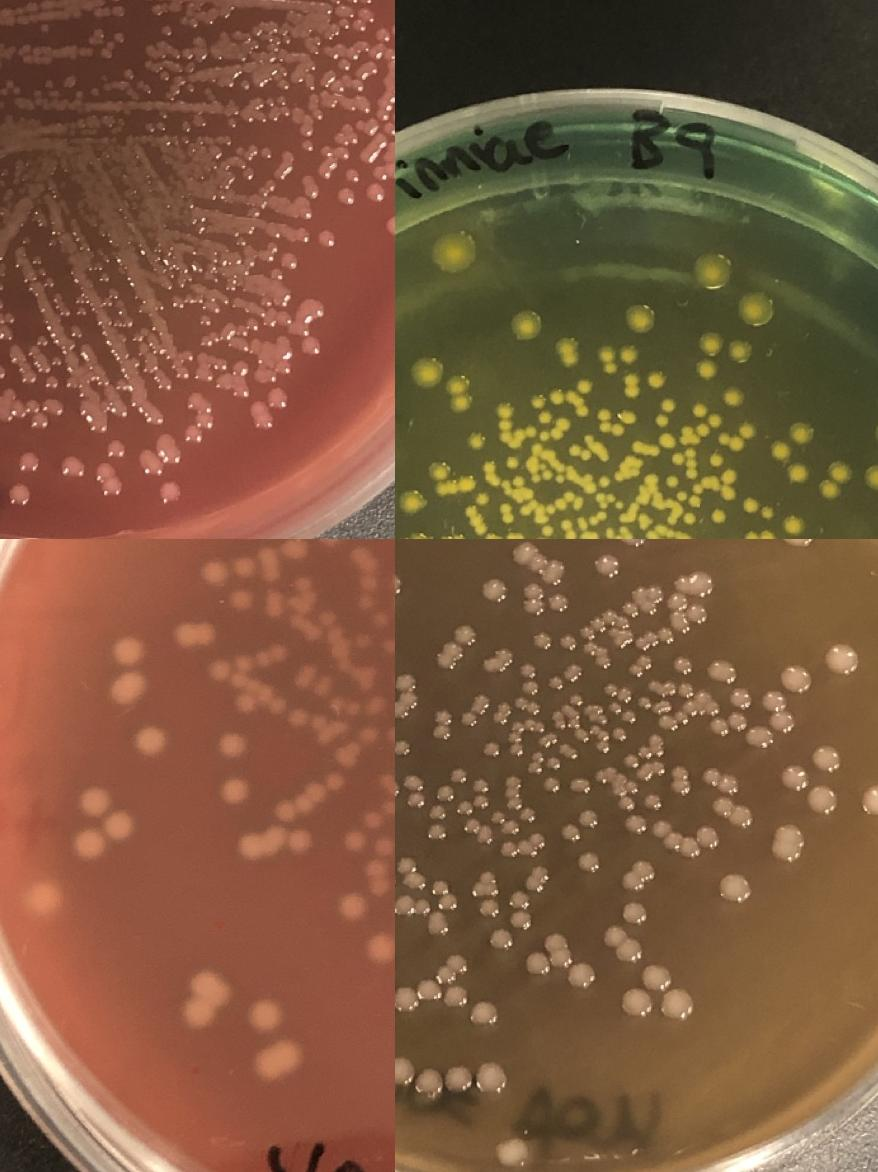pddamselae: (209, 643, 292, 716), (395, 953, 469, 1014), (709, 686, 771, 750), (274, 771, 346, 823), (700, 764, 756, 830), (396, 878, 459, 932), (428, 765, 467, 844), (80, 784, 132, 840), (667, 573, 712, 634), (653, 817, 720, 857), (413, 1063, 472, 1098), (362, 838, 395, 898), (290, 660, 336, 700), (436, 626, 475, 672), (579, 609, 617, 655), (761, 686, 797, 734), (107, 669, 152, 706), (603, 923, 643, 964), (266, 694, 310, 731), (507, 718, 547, 758), (244, 995, 284, 1033), (470, 871, 499, 918), (561, 808, 599, 843), (360, 798, 395, 833), (771, 826, 804, 863), (302, 609, 338, 642), (396, 854, 426, 892), (218, 774, 252, 806), (566, 960, 598, 991), (806, 783, 838, 814), (623, 857, 653, 890), (509, 889, 531, 933), (467, 998, 498, 1028), (718, 872, 748, 903), (782, 662, 812, 693), (498, 1136, 528, 1166), (620, 988, 650, 1018), (642, 962, 672, 992), (592, 552, 622, 582), (662, 989, 692, 1018), (811, 741, 841, 770), (826, 645, 856, 674), (359, 724, 395, 748), (278, 539, 310, 566), (475, 1064, 505, 1092), (404, 773, 426, 811), (218, 730, 248, 757), (367, 933, 395, 961), (76, 830, 104, 858), (137, 726, 165, 754), (113, 638, 141, 666), (200, 558, 228, 586), (228, 588, 256, 615), (432, 707, 452, 743), (781, 764, 808, 790), (706, 658, 732, 685), (504, 774, 522, 812), (525, 950, 551, 976), (487, 926, 513, 952), (622, 900, 648, 926), (481, 578, 507, 604), (540, 558, 566, 584), (512, 540, 538, 566), (470, 775, 490, 808), (395, 735, 412, 772), (362, 696, 386, 721), (340, 895, 364, 919), (312, 727, 336, 751), (289, 828, 312, 853), (671, 766, 690, 796), (603, 685, 631, 704), (342, 830, 366, 852), (526, 866, 548, 890), (526, 583, 542, 616), (395, 1055, 413, 1084), (649, 680, 677, 698), (862, 785, 878, 816), (528, 748, 546, 775), (357, 591, 379, 613), (292, 574, 314, 596), (492, 701, 512, 725), (514, 697, 538, 716), (577, 853, 597, 875), (625, 812, 645, 834), (395, 672, 415, 694), (571, 776, 590, 798), (493, 648, 512, 666), (673, 656, 691, 674), (533, 632, 551, 650), (550, 594, 568, 612), (471, 695, 490, 712), (388, 570, 395, 614), (635, 654, 653, 671), (354, 634, 372, 649), (618, 539, 648, 548), (372, 614, 390, 628), (381, 640, 395, 657), (781, 539, 812, 546), (674, 711, 689, 725), (659, 698, 673, 713), (622, 602, 636, 617), (530, 833, 544, 847), (465, 818, 479, 832), (489, 810, 503, 824), (624, 780, 638, 794), (544, 779, 558, 793), (651, 761, 665, 775), (546, 754, 560, 768), (484, 743, 498, 757), (461, 712, 475, 726), (637, 694, 651, 708), (679, 684, 693, 698), (566, 665, 580, 679), (561, 634, 575, 648), (570, 692, 583, 706), (646, 794, 658, 809), (524, 680, 536, 695), (522, 662, 534, 677), (504, 820, 516, 834), (522, 808, 534, 822), (458, 801, 470, 815), (620, 796, 632, 810), (626, 754, 638, 768), (550, 676, 562, 690), (395, 777, 401, 799), (390, 668, 395, 692)
sinniae: (497, 402, 536, 448), (435, 232, 474, 274), (818, 462, 851, 501), (445, 374, 472, 414), (598, 408, 635, 437), (717, 424, 755, 452), (549, 390, 588, 417), (626, 302, 656, 334), (738, 294, 770, 324), (412, 358, 442, 388), (696, 256, 726, 286), (670, 448, 698, 480), (510, 310, 540, 338), (464, 505, 487, 537), (654, 398, 677, 429), (538, 421, 570, 441), (698, 412, 724, 436), (720, 470, 736, 502), (789, 422, 812, 444), (556, 336, 579, 358), (782, 514, 804, 536), (400, 491, 422, 513), (786, 462, 808, 484), (724, 386, 746, 408), (694, 359, 716, 381), (729, 340, 751, 362), (700, 334, 722, 356), (428, 461, 449, 484), (482, 460, 502, 484), (598, 348, 616, 374), (618, 344, 640, 365), (632, 441, 661, 456), (770, 440, 790, 461), (559, 517, 578, 539), (498, 502, 515, 526), (864, 461, 878, 489), (532, 523, 555, 539), (569, 445, 592, 460), (689, 484, 703, 508), (743, 529, 776, 539), (626, 373, 638, 400), (468, 434, 484, 452), (710, 507, 726, 524), (576, 378, 592, 394), (459, 475, 474, 492), (692, 401, 708, 416), (759, 506, 775, 520), (742, 498, 758, 512), (660, 434, 676, 448), (648, 374, 664, 388), (595, 494, 617, 504), (475, 491, 489, 505), (665, 474, 679, 488), (710, 454, 724, 468), (507, 455, 520, 469), (684, 512, 696, 526)
vangil: (144, 433, 180, 477), (27, 320, 66, 357), (250, 390, 286, 430), (367, 160, 395, 202), (184, 412, 214, 446), (94, 463, 121, 500), (269, 252, 298, 284), (326, 48, 350, 71), (178, 116, 208, 132), (36, 266, 57, 288), (104, 440, 124, 460), (88, 414, 108, 434), (302, 299, 322, 319), (316, 228, 336, 248), (336, 186, 356, 206), (8, 486, 28, 504), (162, 482, 180, 502), (64, 458, 82, 478), (300, 340, 320, 358), (20, 452, 38, 471), (31, 412, 49, 430), (48, 398, 66, 416), (372, 26, 390, 44), (79, 344, 96, 362), (303, 182, 320, 200), (157, 376, 173, 394), (275, 310, 291, 326), (260, 248, 276, 264), (174, 366, 190, 381), (234, 362, 250, 377), (196, 314, 212, 329), (180, 348, 196, 362), (169, 294, 185, 308), (179, 16, 197, 28), (16, 7, 27, 26), (301, 138, 315, 152), (299, 124, 313, 138), (99, 46, 113, 60), (386, 217, 395, 237), (32, 286, 46, 298), (14, 256, 28, 268), (31, 254, 45, 266), (242, 169, 256, 181), (358, 102, 372, 114), (350, 80, 364, 92), (277, 80, 291, 92), (290, 72, 304, 84), (365, 62, 379, 74), (92, 27, 106, 39), (160, 24, 174, 36), (261, 148, 274, 160), (113, 31, 126, 43), (112, 5, 124, 18), (225, 117, 239, 128), (0, 280, 4, 293), (0, 297, 4, 309)
